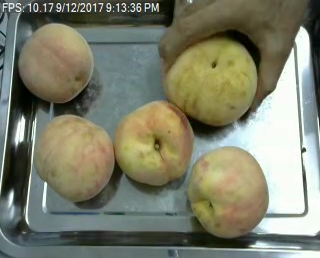Peach: (166, 36, 259, 126), (187, 145, 269, 238), (34, 115, 115, 203), (115, 99, 194, 186), (19, 23, 93, 103)
